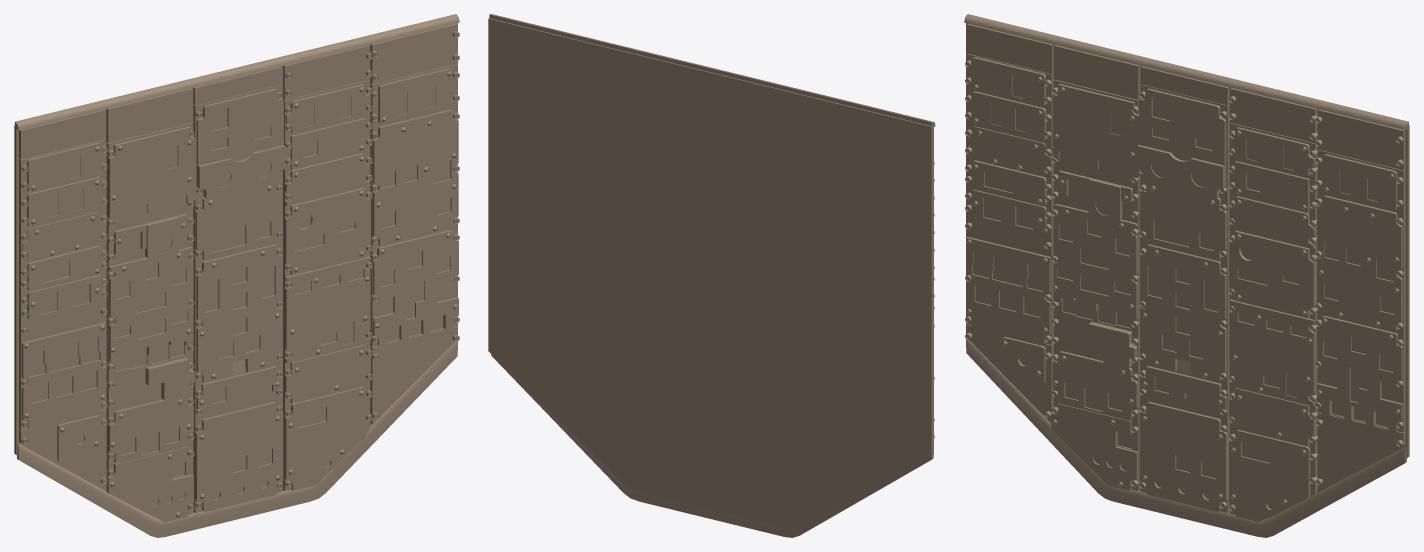
File: Upper_Panel_V1.fbx
The picture shows the model from 3 angles, left to right: view 1: azimuth 30°, elevation 25°; view 2: azimuth 150°, elevation 25°; view 3: azimuth 330°, elevation 25°; orthographic projection.
Parts seen in each view (by area): view 1: Upper_Panel, A2_Panel, P_Panel, N_Panel1, R_Panel1, Bottom_Trim, J_Panel, F_Panel, W_Panel, B2_Panel, H_Panel, Y_Panel (+19 smaller); view 2: Upper_Panel, Bottom_Trim, Top_Trim; view 3: Upper_Panel, P_Panel, A2_Panel, N_Panel1, R_Panel1, Bottom_Trim, J_Panel, F_Panel, W_Panel, B2_Panel, H_Panel, Y_Panel (+19 smaller).
Boxes of the visible parts, bbox=[...] form: Upper_Panel: bbox=[14, 23, 457, 517]; A2_Panel: bbox=[372, 109, 458, 246]; P_Panel: bbox=[196, 244, 282, 382]; N_Panel1: bbox=[196, 88, 285, 199]; R_Panel1: bbox=[195, 402, 283, 511]; Bottom_Trim: bbox=[17, 341, 457, 537]; J_Panel: bbox=[109, 247, 193, 363]; F_Panel: bbox=[21, 322, 106, 429]; W_Panel: bbox=[285, 256, 370, 363]; B2_Panel: bbox=[373, 230, 458, 346]; H_Panel: bbox=[108, 126, 196, 221]; Y_Panel: bbox=[284, 386, 365, 490]; Upper_Panel: bbox=[488, 18, 933, 529]; Bottom_Trim: bbox=[491, 354, 933, 537]; Top_Trim: bbox=[489, 14, 935, 126]; Upper_Panel: bbox=[966, 23, 1409, 518]; P_Panel: bbox=[1140, 244, 1226, 382]; A2_Panel: bbox=[1317, 195, 1402, 332]; N_Panel1: bbox=[1137, 88, 1226, 199]; R_Panel1: bbox=[1139, 401, 1227, 511]; Bottom_Trim: bbox=[966, 339, 1406, 537]; J_Panel: bbox=[1053, 204, 1137, 320]; F_Panel: bbox=[966, 236, 1050, 343]; W_Panel: bbox=[1229, 299, 1314, 406]; B2_Panel: bbox=[1317, 315, 1402, 432]; H_Panel: bbox=[1052, 83, 1140, 178]; Y_Panel: bbox=[1229, 429, 1310, 521].
Size of the model in its own units: 74.38 by 72.38 by 2.41.
